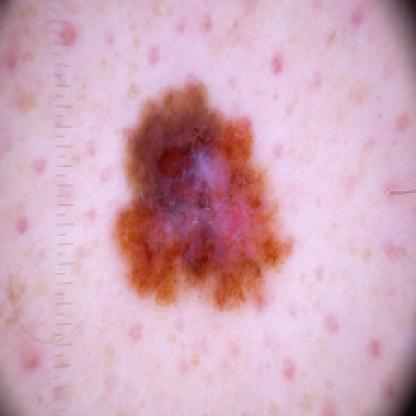Skin_Cancer-Malignant: (112, 76, 294, 313)
